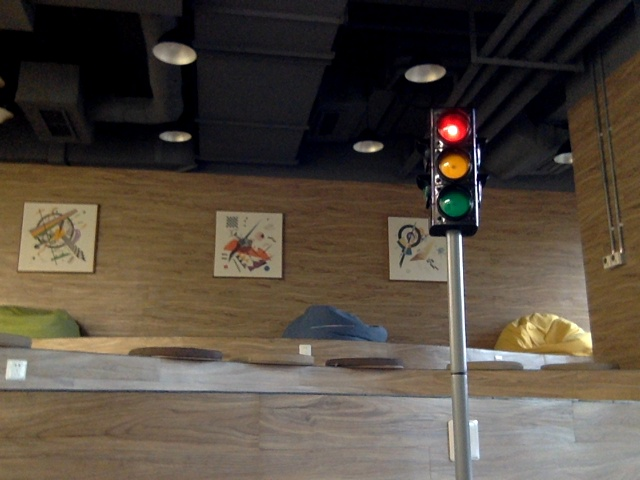red: (431, 111, 474, 224)
